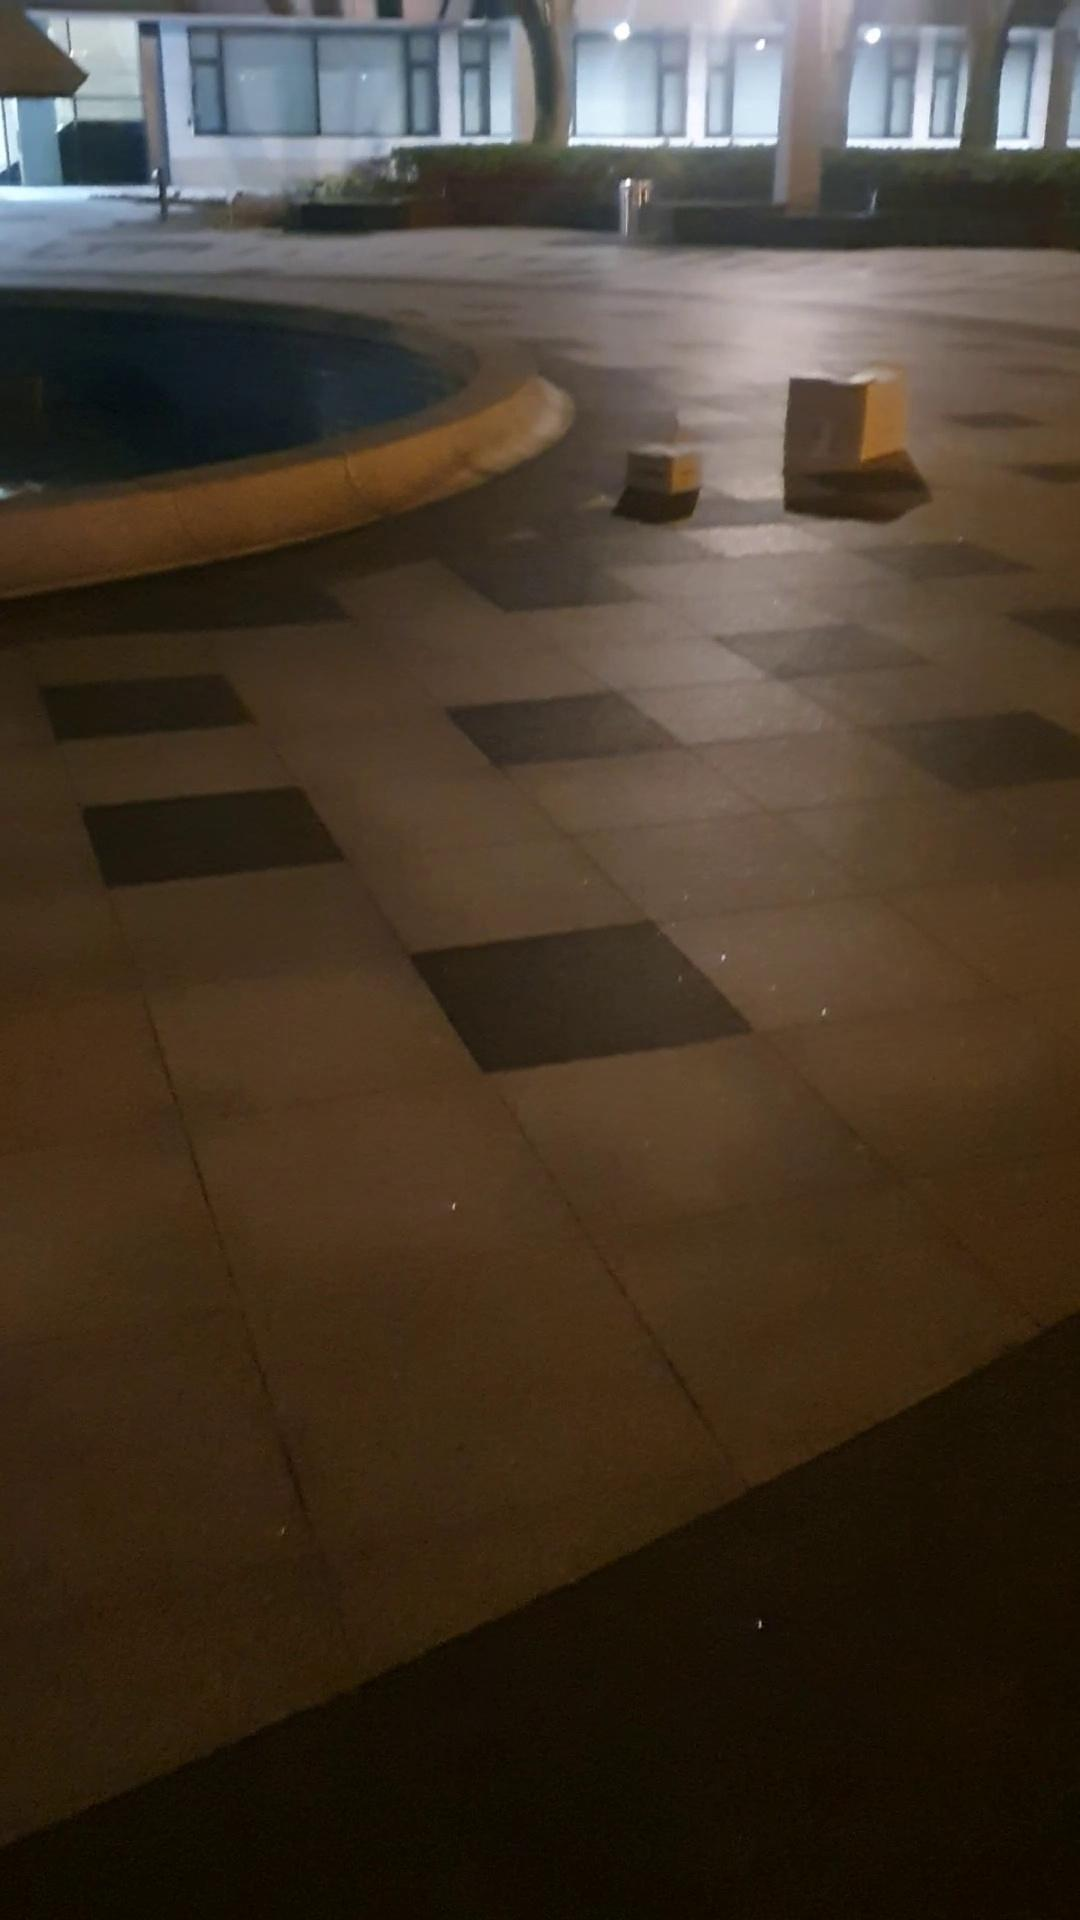Box: (764, 345, 927, 500), (618, 440, 712, 506)
